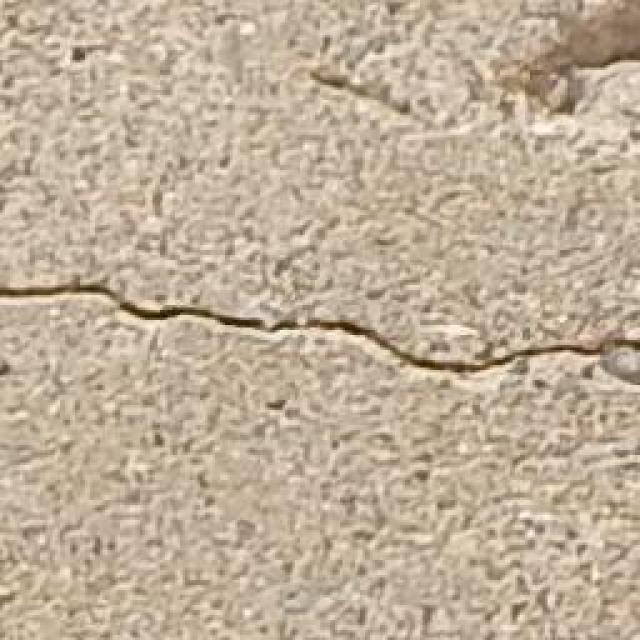concrete-crack: (0, 280, 640, 390), (480, 1, 640, 134)
